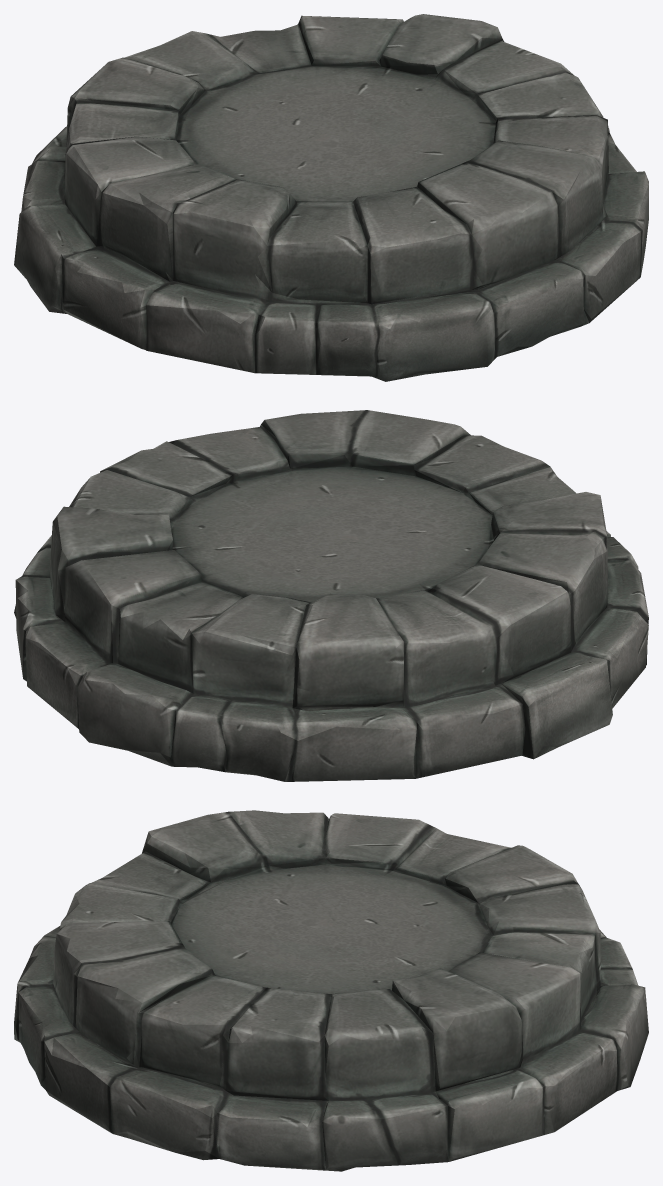
File: modelStage.fbx
The picture shows the model from 3 angles, top to bottom: view 1: azimuth 30°, elevation 25°; view 2: azimuth 150°, elevation 25°; view 3: azimuth 270°, elevation 25°; orthographic projection. The views are drawn at different scales.
Visible parts, largest first — view 1: modelStage; view 2: modelStage; view 3: modelStage.
Boxes of the visible parts, left/top/right/bottom form: modelStage: left=14, top=14, right=648, bottom=381; modelStage: left=14, top=410, right=648, bottom=781; modelStage: left=14, top=810, right=648, bottom=1171.
Bounding box in the file's own units: 26.26 × 6.05 × 26.35.
